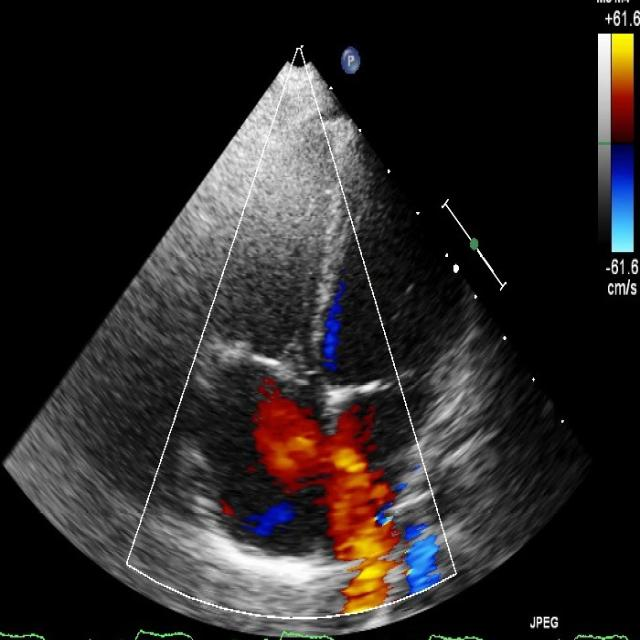ASDType2: (264, 423, 373, 477)
